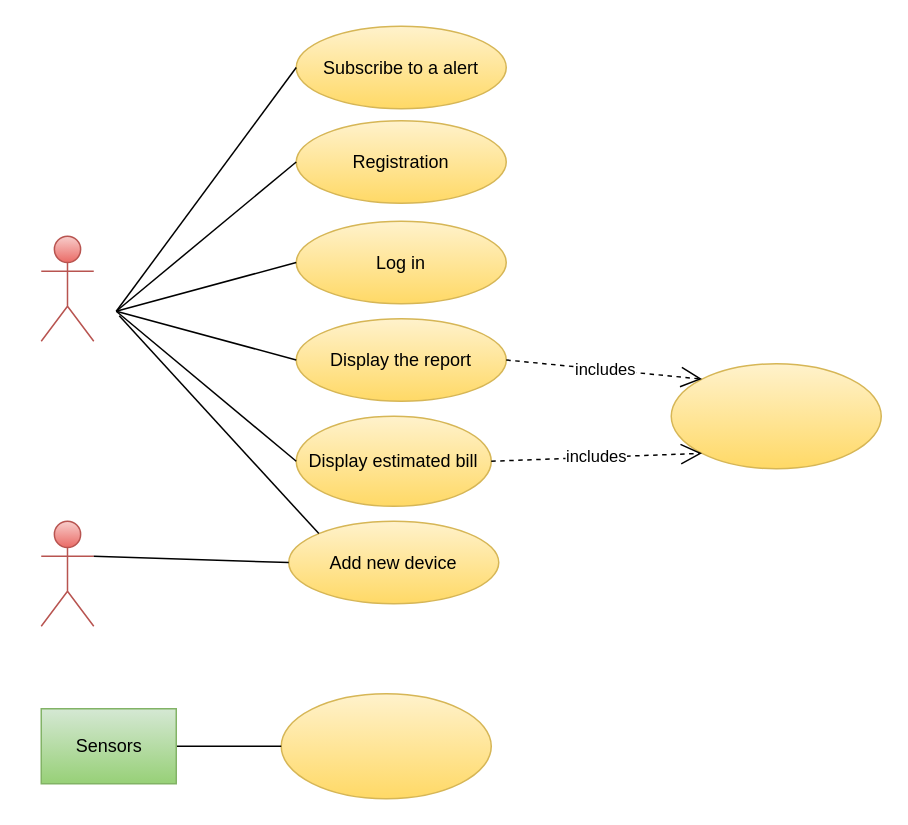
The diagram is 908 pixels wide and 825 high, and some of its shapes have lost their labels. The shapes that lost their labels are listed below. From the top down, each one's centre as x and y in pixels, then its label:
At pixel 67 288: "End-User".
At pixel 775 415: "Computation / statistics".
At pixel 67 573: "Maintainer".
At pixel 385 745: "Receive external data".
